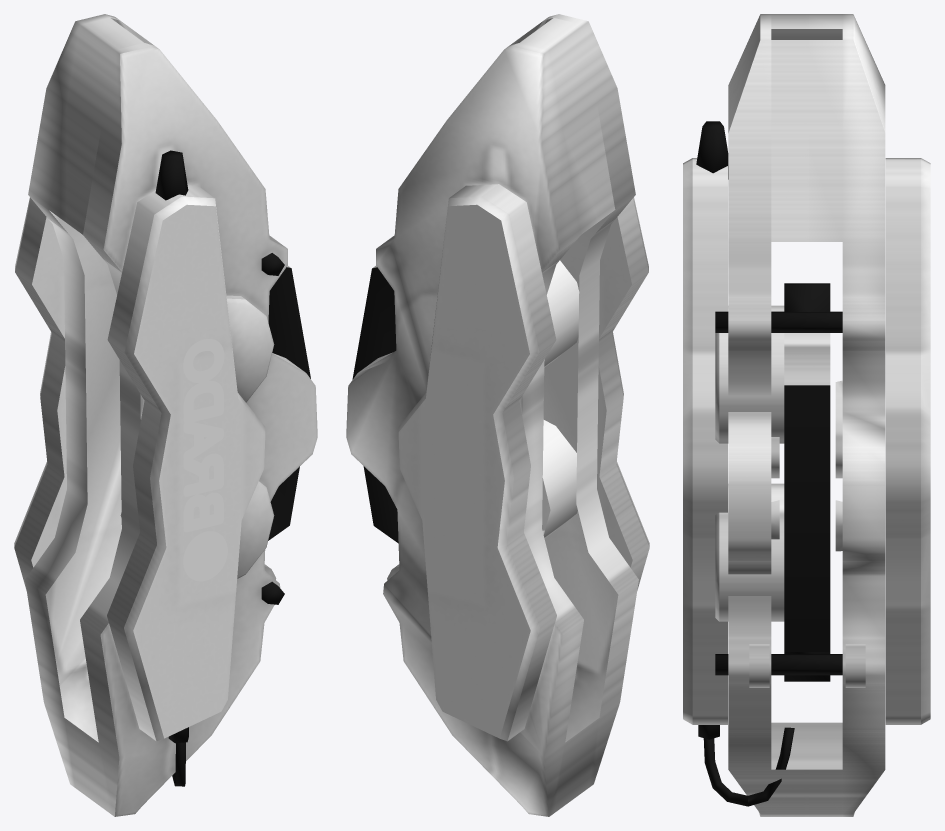
Rendered from brake_03_R.FBX.
The picture shows the model from 3 angles, left to right: view 1: azimuth 30°, elevation 25°; view 2: azimuth 150°, elevation 25°; view 3: azimuth 270°, elevation 25°; orthographic projection. The views are drawn at different scales.
Visible parts, largest first — view 1: brake_016; view 2: brake_016; view 3: brake_016.
Part boxes in pixels (bbox=[...]): brake_016: bbox=[14, 14, 317, 816]; brake_016: bbox=[346, 14, 649, 816]; brake_016: bbox=[683, 14, 930, 816].
Bounding box in the file's own units: 0.1089 × 0.0956 × 0.3322.
